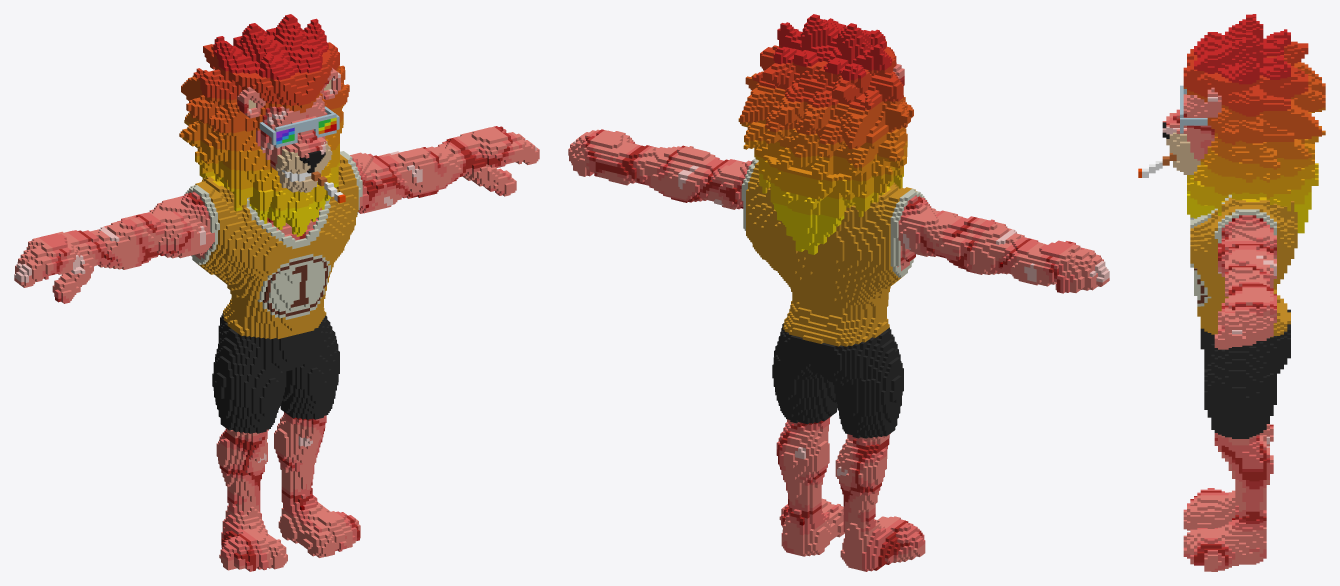
The picture shows the model from 3 angles, left to right: view 1: azimuth 30°, elevation 25°; view 2: azimuth 150°, elevation 25°; view 3: azimuth 270°, elevation 25°; orthographic projection. The views are drawn at different scales.
Visible parts, largest first — view 1: cigarette; view 2: cigarette; view 3: cigarette.
Boxes of the visible parts, <box> form: cigarette: <box>14,14,539,571</box>; cigarette: <box>568,14,1109,571</box>; cigarette: <box>1138,14,1325,571</box>.
Size of the model in its own units: 17.2 by 16.5 by 5.4.
Materials: 5 (5 with a texture image).
